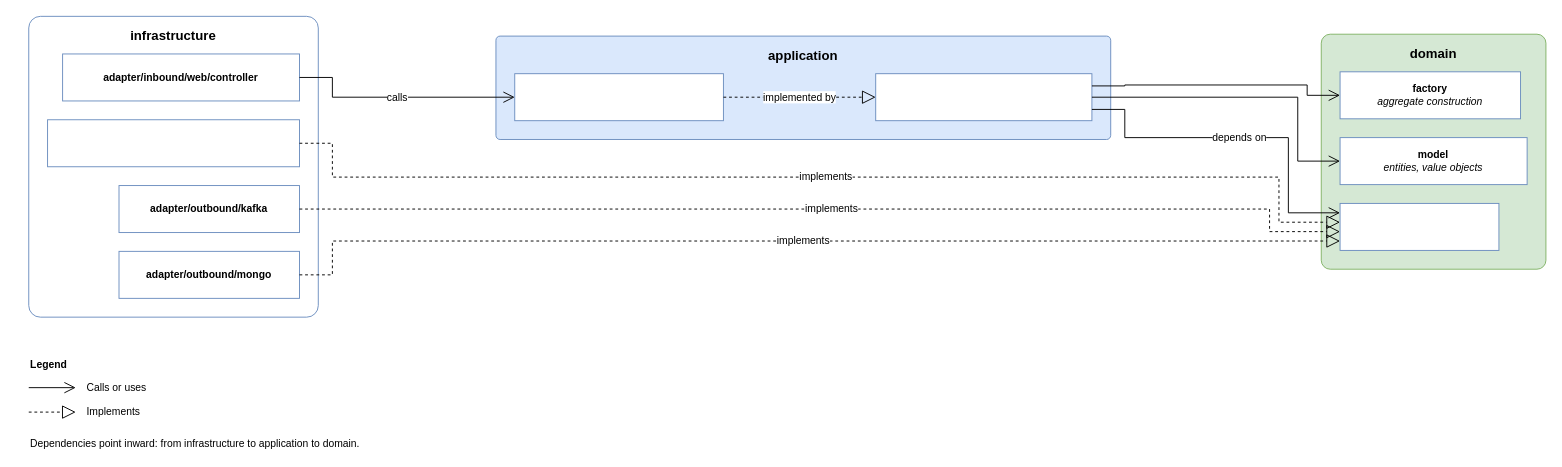
Image size: 1562x467. Some labels were removed from this diagram. The centre of each missing label's shape, as x and y in pixels:
"adapter/outbound/<other-service>" goes at (x=173, y=143).
"port outbound interfaces" goes at (x=1419, y=226).
"port/inbound one interface per use case" goes at (x=618, y=97).
"usecase implements the inbound port" goes at (x=983, y=97).
